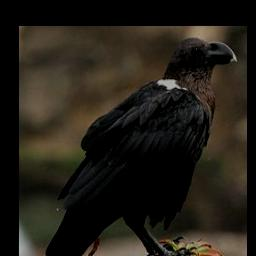Crow: (29, 35, 234, 256)
